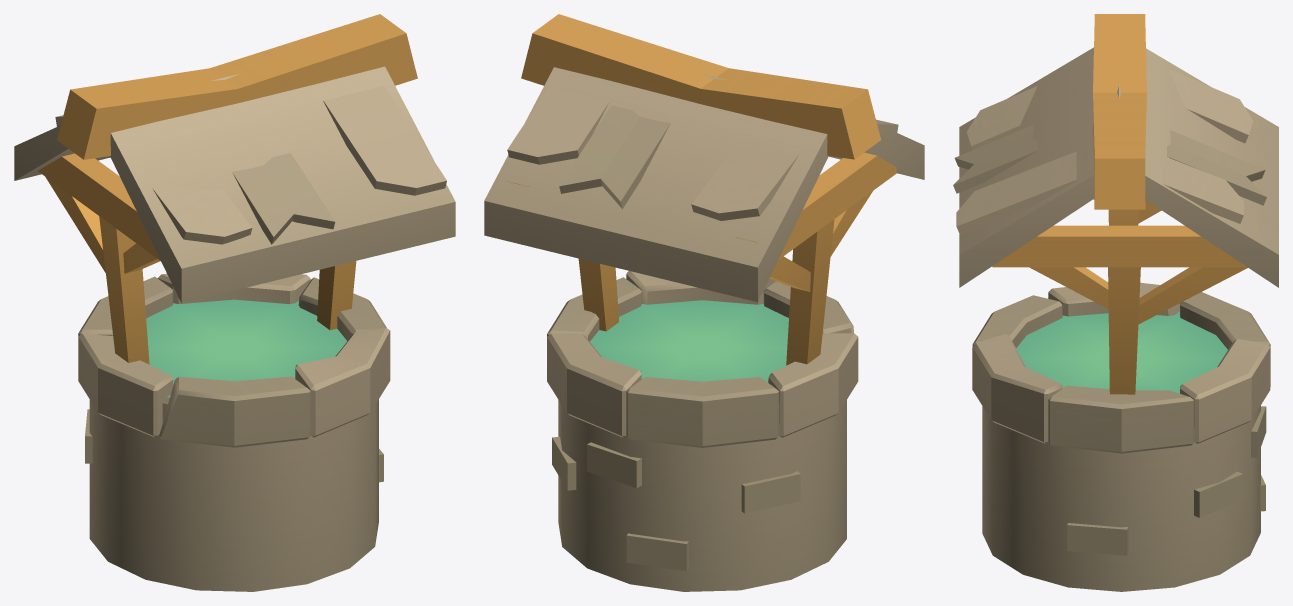
The model's file is Well.fbx.
3 views of the same model, side by side, from view 1: azimuth 30°, elevation 25°; view 2: azimuth 150°, elevation 25°; view 3: azimuth 270°, elevation 25° (orthographic). The views are drawn at different scales.
Visible parts, largest first — view 1: Well; view 2: Well; view 3: Well.
Boxes of the visible parts, <box> form: Well: <box>14,14,455,591</box>; Well: <box>484,14,924,591</box>; Well: <box>953,14,1278,591</box>.
Bounding box in the file's own units: 131 × 175 × 115.
